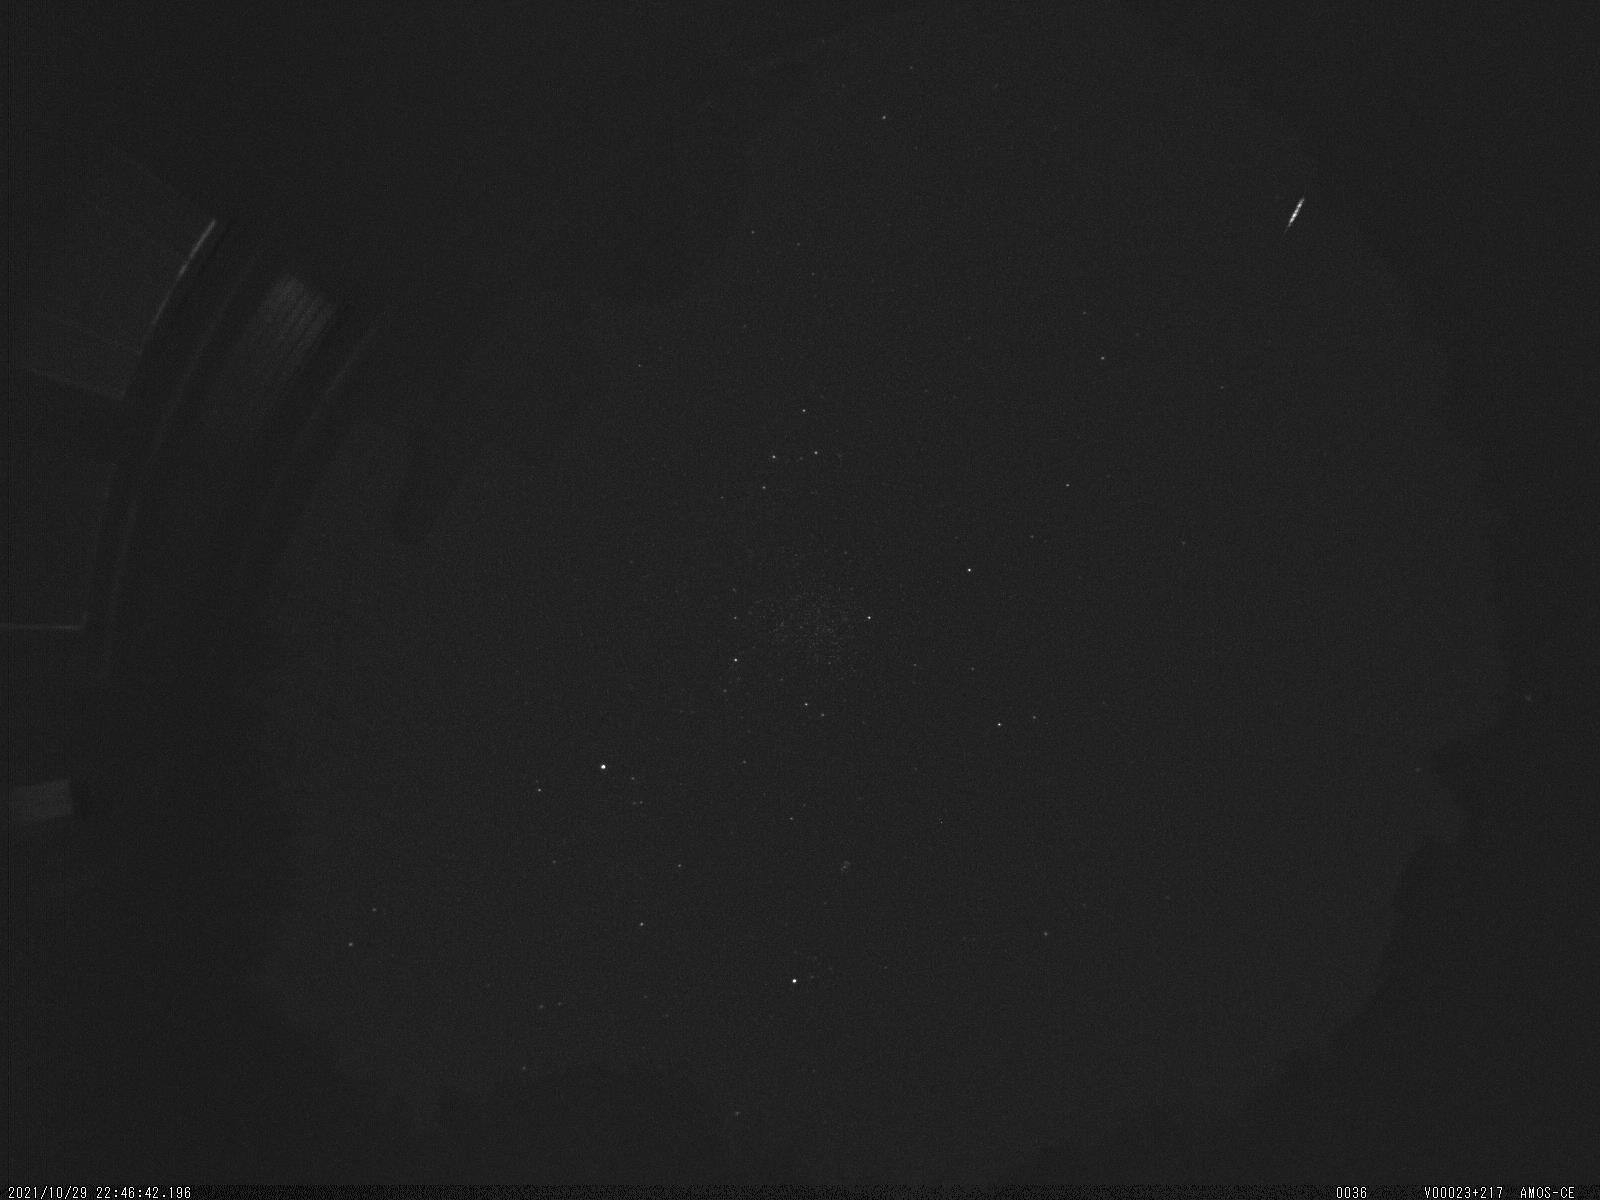Meteor: (1277, 185, 1315, 239)
